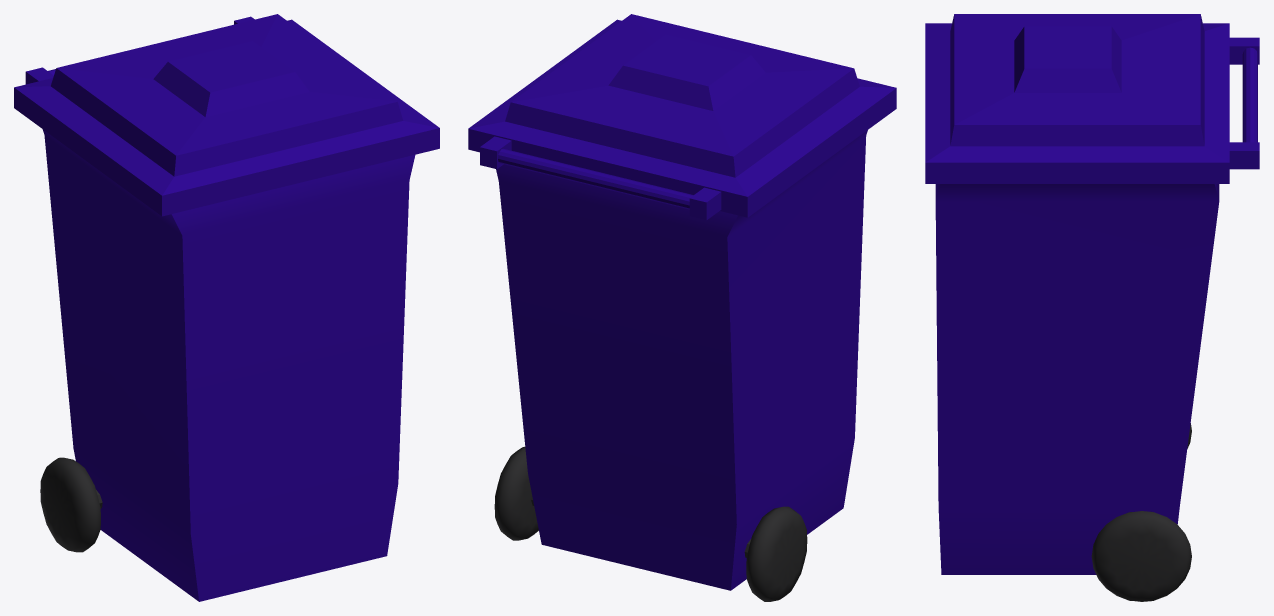
The model's file is Proto_Bin_01.fbx.
The picture shows the model from 3 angles, left to right: view 1: azimuth 30°, elevation 25°; view 2: azimuth 150°, elevation 25°; view 3: azimuth 270°, elevation 25°; orthographic projection. The views are drawn at different scales.
Parts seen in each view (by area): view 1: Proto_RecycleBin_01; view 2: Proto_RecycleBin_01; view 3: Proto_RecycleBin_01.
Part boxes in pixels (x1,y1,x2,y2): Proto_RecycleBin_01: (14, 14, 439, 601); Proto_RecycleBin_01: (468, 14, 896, 601); Proto_RecycleBin_01: (925, 14, 1259, 601).
Bounding box in the file's own units: 2.74 × 4.51 × 2.78.
